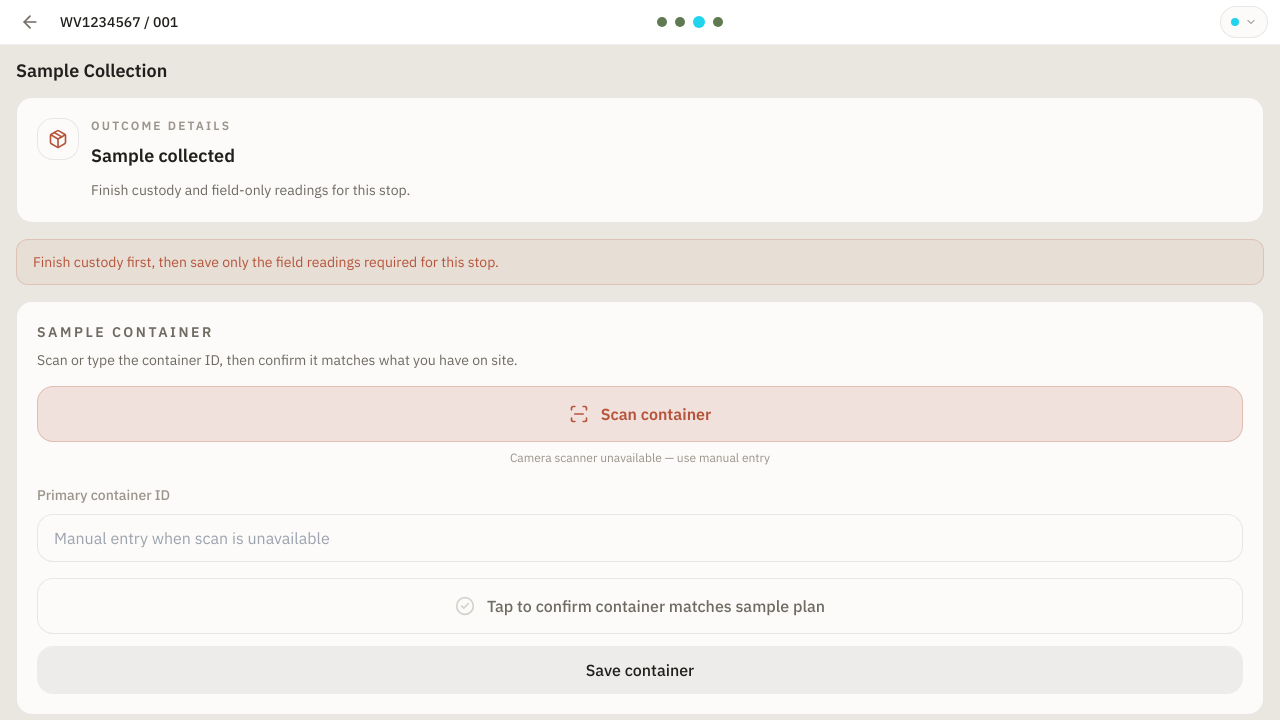
Test case: FieldVisitPage wizard › renders the site assessment reachability toggle with correct initial state
Check: the navigation bar named "Field visit wizard progress" is shown, box [657,16,741,28]
Step 1. Click the button named "Site Assessment" → (680, 22), box [675,17,685,27]
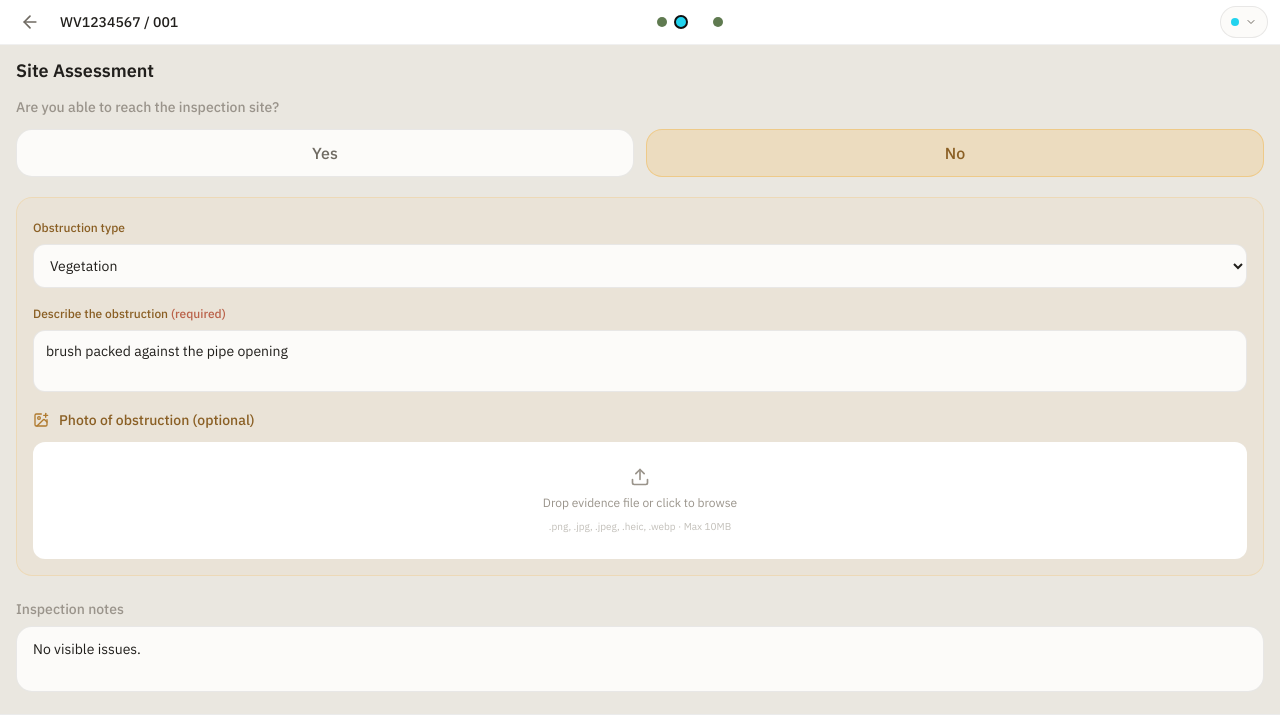
Check: the heading "Site Assessment" is shown, box [16,59,154,82]
Check: the text "Are you able to reach the inspection site?" is shown, box [16,97,279,117]
Check: the text "Obstruction type" is shown, box [33,220,125,235]
